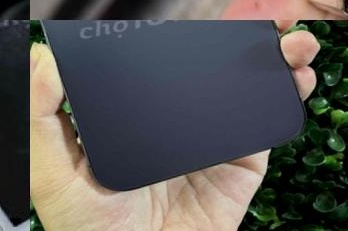scratch: (282, 0, 348, 11)
